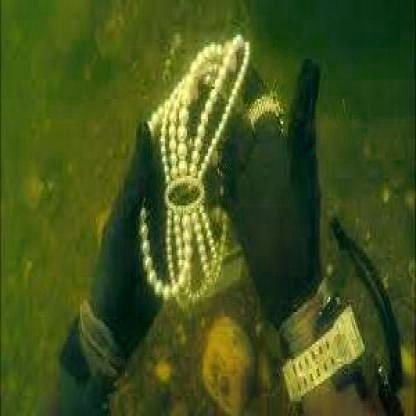misc: (138, 40, 250, 297)
